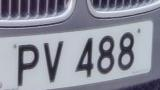4: (73, 33, 97, 84)
8: (116, 27, 138, 78), (96, 31, 118, 80)
P: (13, 38, 42, 90)
V: (40, 38, 67, 87)
